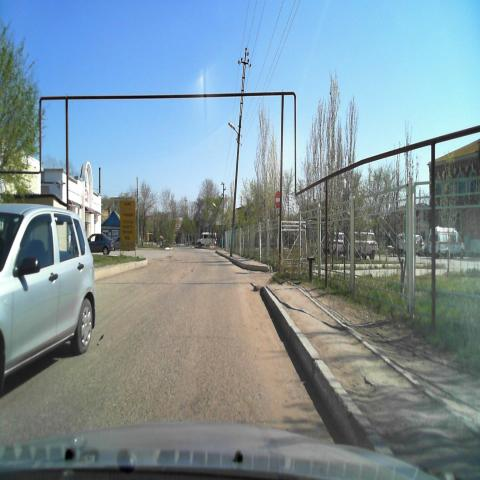3_1: (274, 191, 283, 209)
